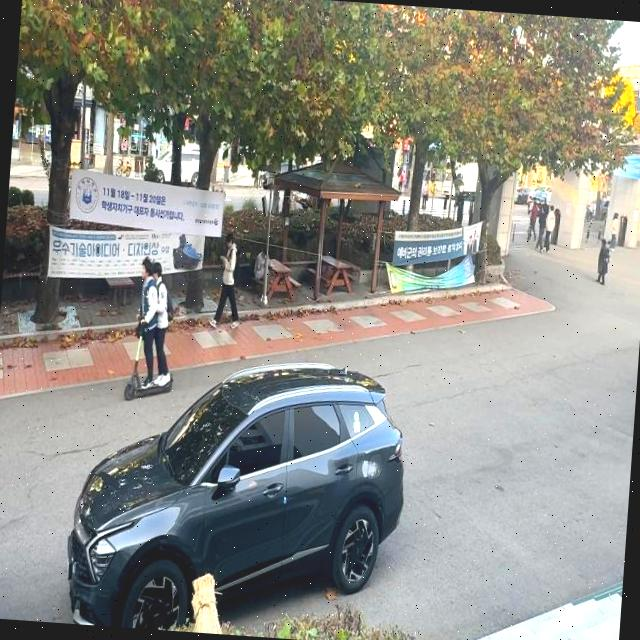bare_head: (147, 259, 169, 283), (135, 259, 153, 282)
human: (143, 260, 179, 388), (132, 257, 161, 389)
kickboard: (117, 370, 182, 400)
